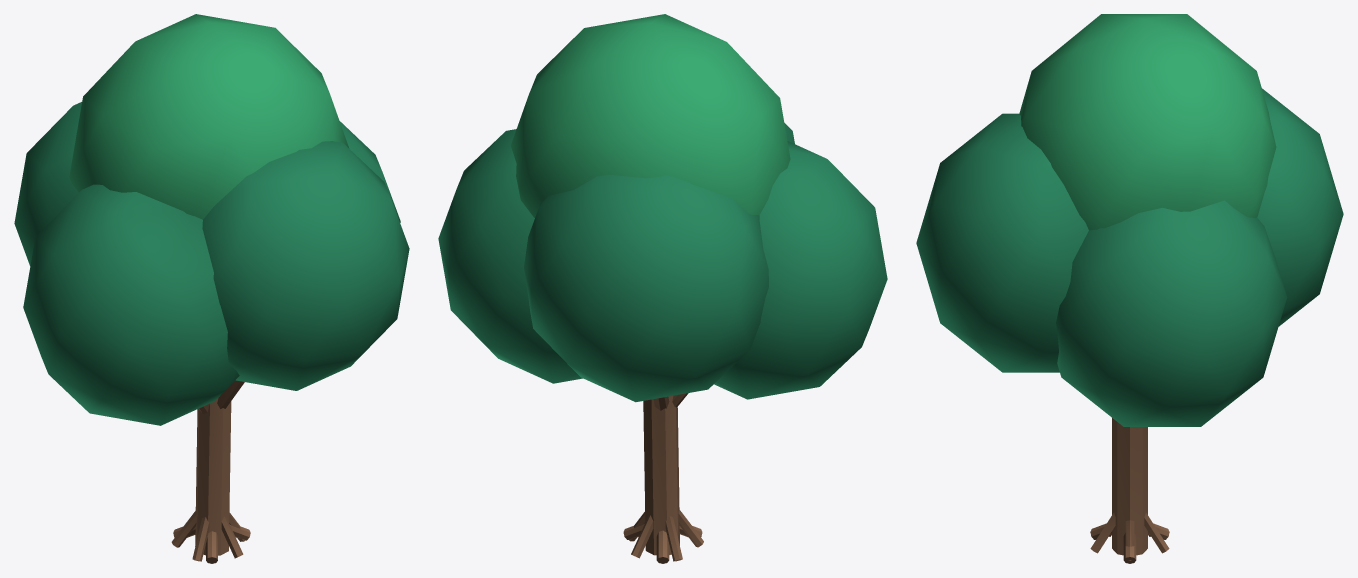
Rendered from tree-oak-low.glb.
3 views of the same model, side by side, from view 1: azimuth 30°, elevation 25°; view 2: azimuth 150°, elevation 25°; view 3: azimuth 270°, elevation 25° (orthographic). The views are drawn at different scales.
Parts seen in each view (by area): view 1: rounded crown, rounded crown.004, branch; view 2: rounded crown, rounded crown.004, branch; view 3: rounded crown, rounded crown.004, branch.
Part boxes in pixels (x1,y1,x2,y2): rounded crown: (14,102,409,425); rounded crown.004: (69,14,349,219); branch: (171,380,250,563); rounded crown: (438,123,887,402); rounded crown.004: (511,14,790,217); branch: (623,393,703,563); rounded crown: (916,88,1343,426); rounded crown.004: (1019,14,1276,230); branch: (1090,418,1169,563).
Size of the model in its own units: 2.46 by 3.29 by 2.4.
